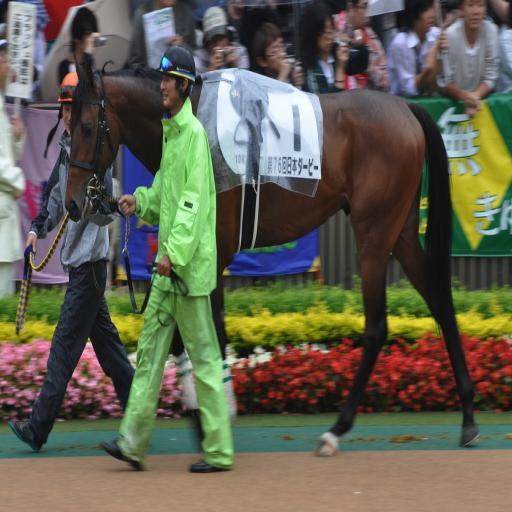horse: (64, 50, 482, 456)
